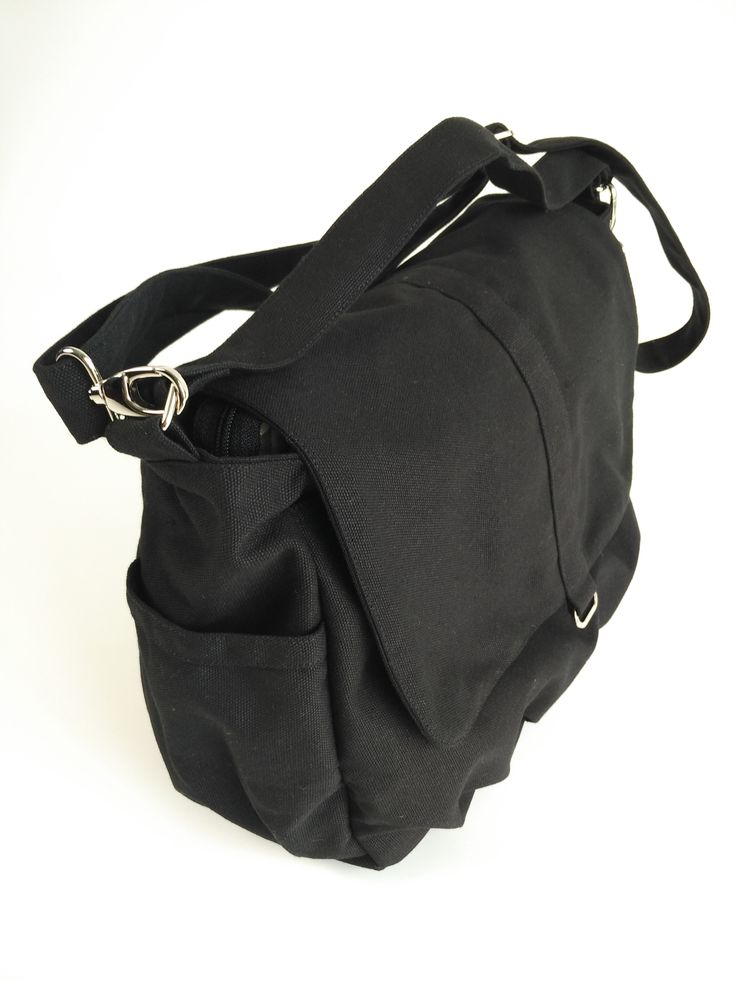nylon: (33, 116, 708, 874)
